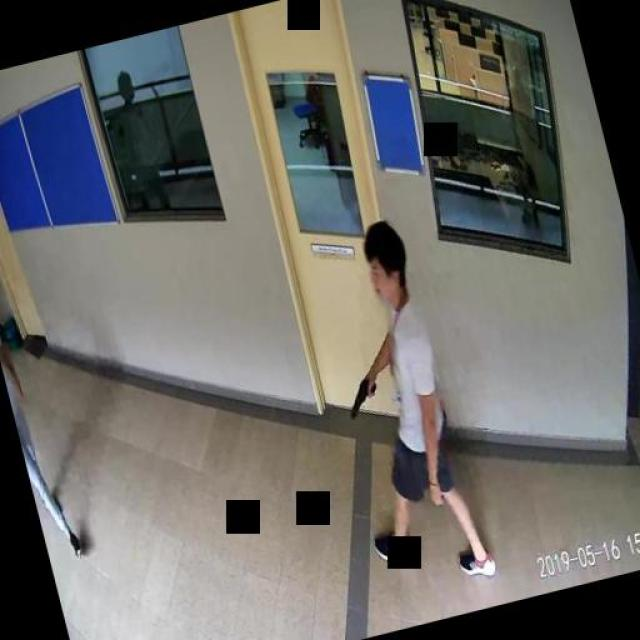gun: (340, 368, 380, 418)
